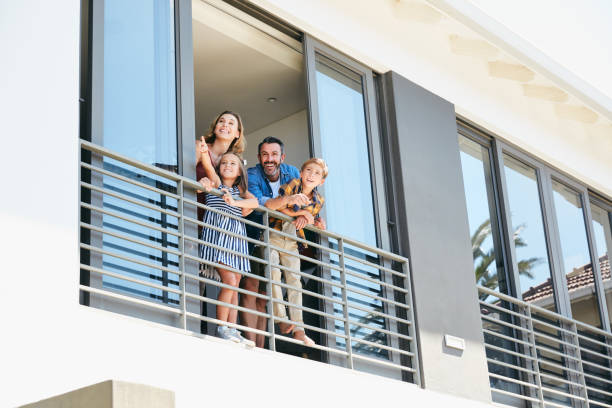without mask: (252, 136, 289, 173), (208, 111, 247, 140), (210, 153, 249, 182), (293, 159, 332, 188)
